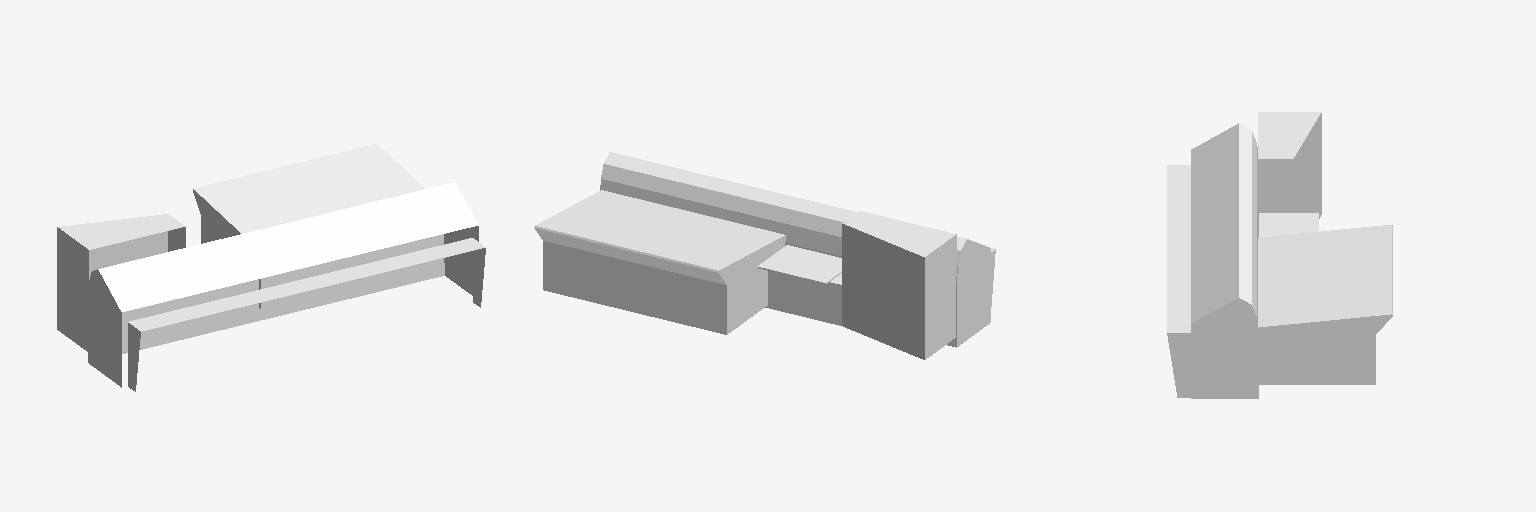
The model's file is Belkin_Art_Gallery.obj.
3 renders of one model, left to right at view 1: azimuth 30°, elevation 25°; view 2: azimuth 150°, elevation 25°; view 3: azimuth 270°, elevation 25°, orthographic.
Parts seen in each view (by area): view 1: Belkin_Art_Gallery_4_Mesh.001; view 2: Belkin_Art_Gallery_4_Mesh.001; view 3: Belkin_Art_Gallery_4_Mesh.001.
Part boxes in pixels (left/top/right/bottom): Belkin_Art_Gallery_4_Mesh.001: left=57, top=144, right=485, bottom=391; Belkin_Art_Gallery_4_Mesh.001: left=534, top=152, right=995, bottom=359; Belkin_Art_Gallery_4_Mesh.001: left=1167, top=112, right=1392, bottom=398.
Size of the model in its own units: 0.0506 by 0.0155 by 0.0277.